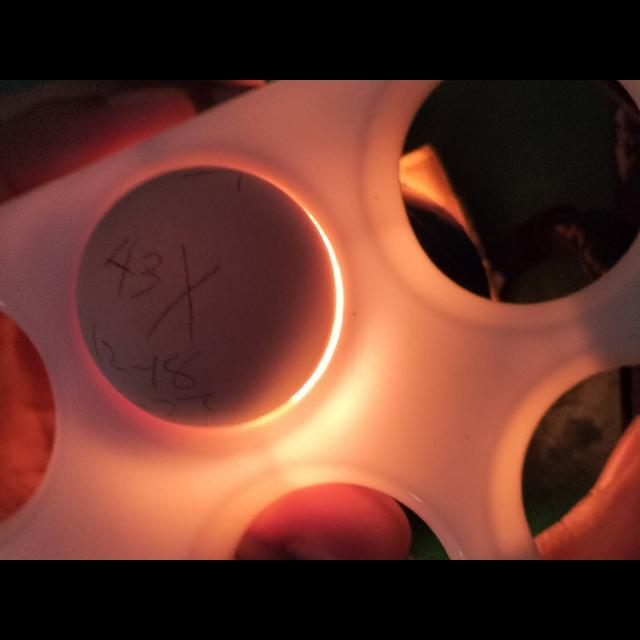Fertile: (72, 154, 346, 416)
